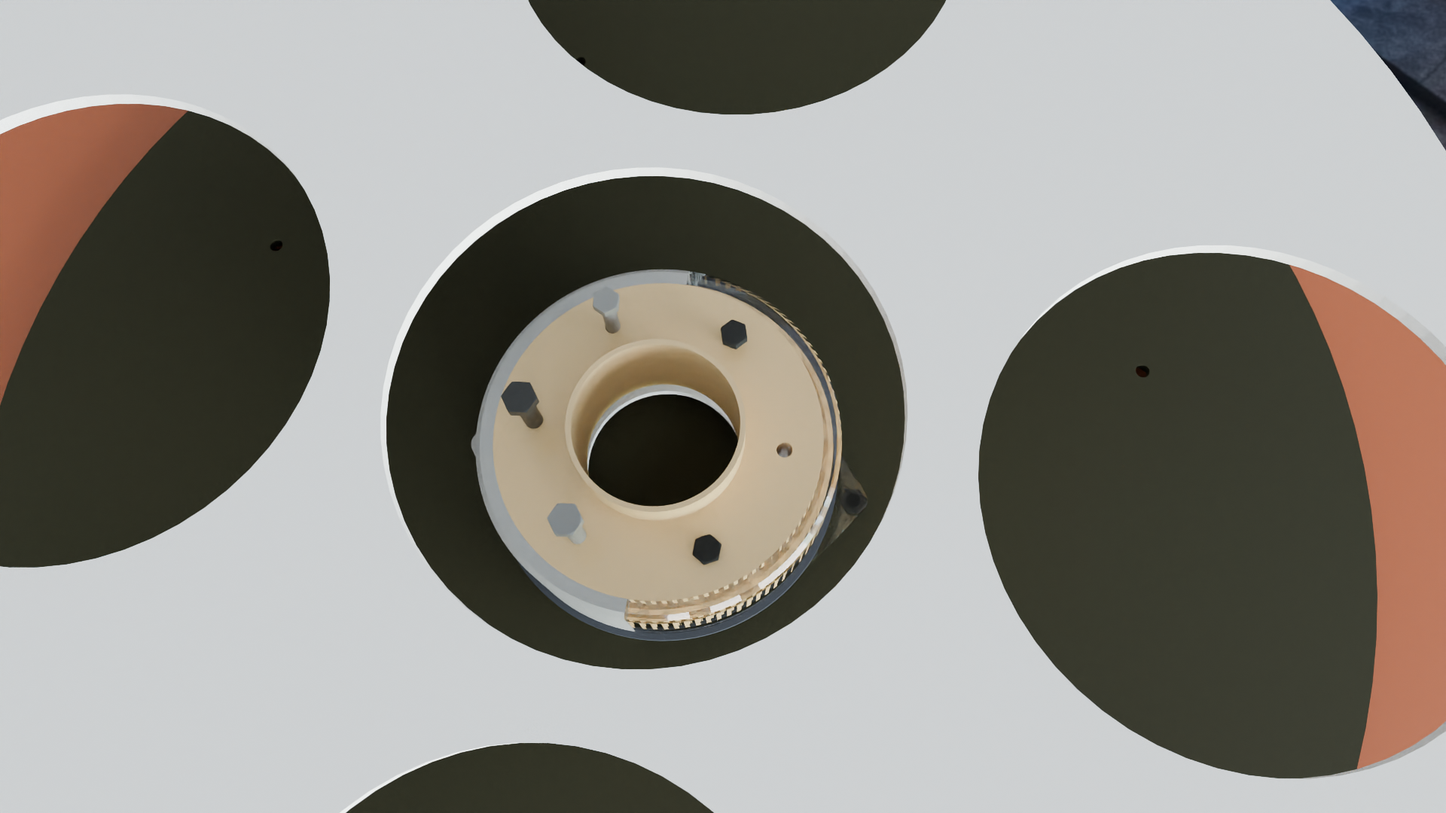bolt: (547, 503, 583, 535), (501, 382, 537, 413), (692, 534, 721, 564), (593, 287, 619, 313), (721, 320, 747, 346)
